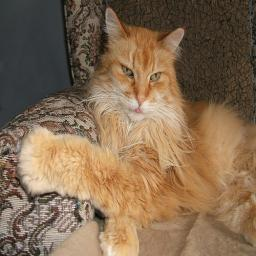catnose: (134, 94, 147, 108)
